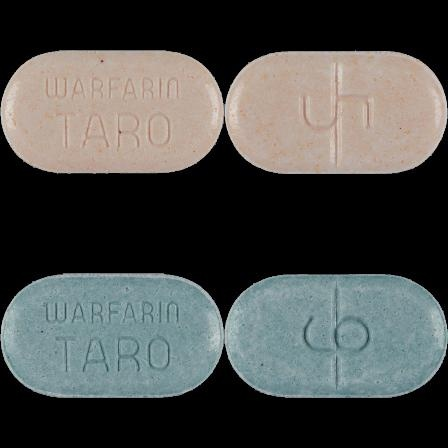51672-4032: (0, 0, 224, 224)
